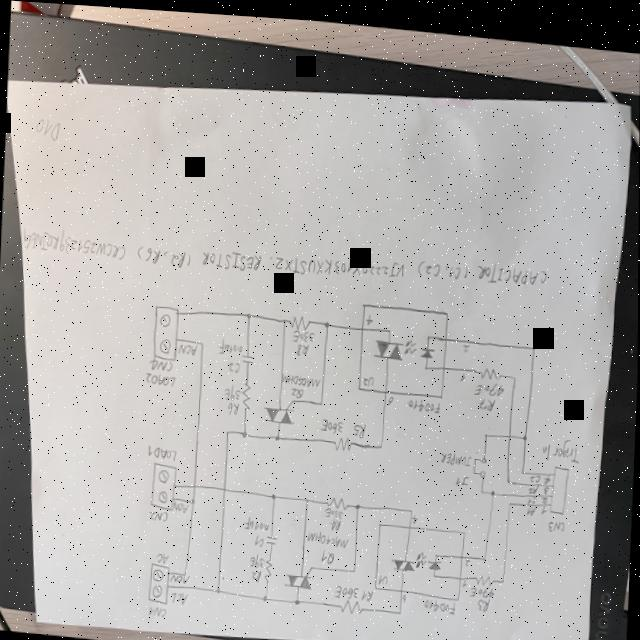capacitor: (241, 350, 256, 362), (265, 531, 279, 542)
crossover: (192, 479, 198, 489), (222, 482, 228, 491), (507, 426, 513, 433)
junction: (324, 316, 331, 325), (190, 495, 197, 504), (242, 427, 249, 435), (522, 426, 528, 435), (272, 489, 278, 497), (263, 591, 269, 599), (295, 594, 301, 602), (356, 498, 362, 506), (246, 308, 252, 316), (352, 562, 358, 570), (200, 337, 206, 345), (216, 585, 222, 592), (275, 430, 281, 437), (512, 368, 518, 375), (532, 338, 537, 345), (305, 493, 310, 500), (379, 438, 384, 445), (225, 426, 230, 433), (484, 425, 489, 432), (399, 604, 404, 611), (521, 462, 526, 469), (319, 396, 324, 402), (506, 472, 511, 478), (491, 483, 496, 489), (282, 314, 287, 320), (480, 482, 484, 489), (483, 549, 487, 556), (508, 494, 512, 500), (501, 571, 505, 577), (409, 502, 413, 508), (184, 570, 188, 573)
resistor: (339, 592, 366, 612), (289, 310, 312, 328), (334, 430, 354, 450), (242, 377, 253, 410), (479, 360, 503, 375), (327, 491, 349, 507), (474, 567, 494, 581), (265, 555, 274, 579)
switch: (473, 448, 488, 473)
terminal: (151, 300, 181, 360), (150, 456, 180, 511), (148, 558, 171, 605), (550, 457, 571, 508)
text: (19, 214, 553, 298), (542, 428, 583, 456), (304, 526, 351, 545), (280, 366, 323, 385), (423, 591, 458, 611), (440, 445, 474, 463), (147, 441, 178, 460), (407, 392, 441, 409), (474, 374, 505, 392), (242, 511, 272, 529), (218, 335, 245, 355), (145, 370, 177, 386), (320, 413, 345, 431), (335, 579, 361, 596), (223, 378, 242, 400), (149, 354, 173, 371), (292, 324, 316, 340), (469, 579, 495, 593), (178, 339, 199, 356), (171, 587, 190, 605), (225, 397, 242, 414), (548, 511, 566, 527), (324, 502, 345, 515), (295, 338, 311, 355), (478, 390, 496, 405), (149, 602, 167, 616), (171, 570, 190, 583), (151, 508, 169, 521), (321, 545, 335, 560), (456, 467, 471, 480), (354, 417, 366, 433), (156, 550, 170, 563), (175, 499, 189, 512), (362, 583, 374, 598), (331, 513, 343, 528), (478, 592, 490, 606), (228, 357, 240, 370), (362, 370, 374, 383), (291, 383, 305, 394), (254, 532, 266, 544), (530, 465, 542, 477), (252, 565, 262, 579), (526, 498, 538, 509), (528, 486, 538, 498), (379, 569, 389, 581), (544, 463, 552, 477), (529, 476, 539, 487), (366, 309, 374, 321), (387, 390, 394, 401), (540, 498, 548, 507), (460, 364, 466, 376), (412, 509, 419, 519), (462, 338, 470, 346), (402, 587, 408, 597), (542, 487, 548, 497), (544, 478, 550, 487), (465, 553, 471, 561), (462, 573, 468, 581)
